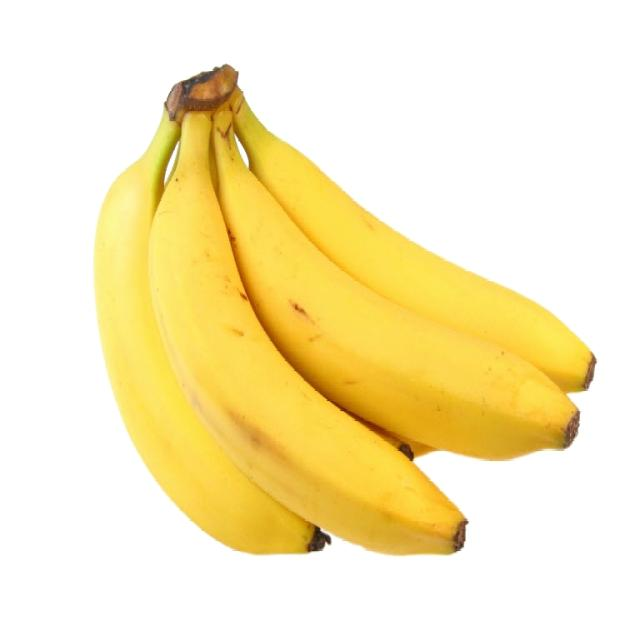Quả chuối: (92, 63, 596, 557)
